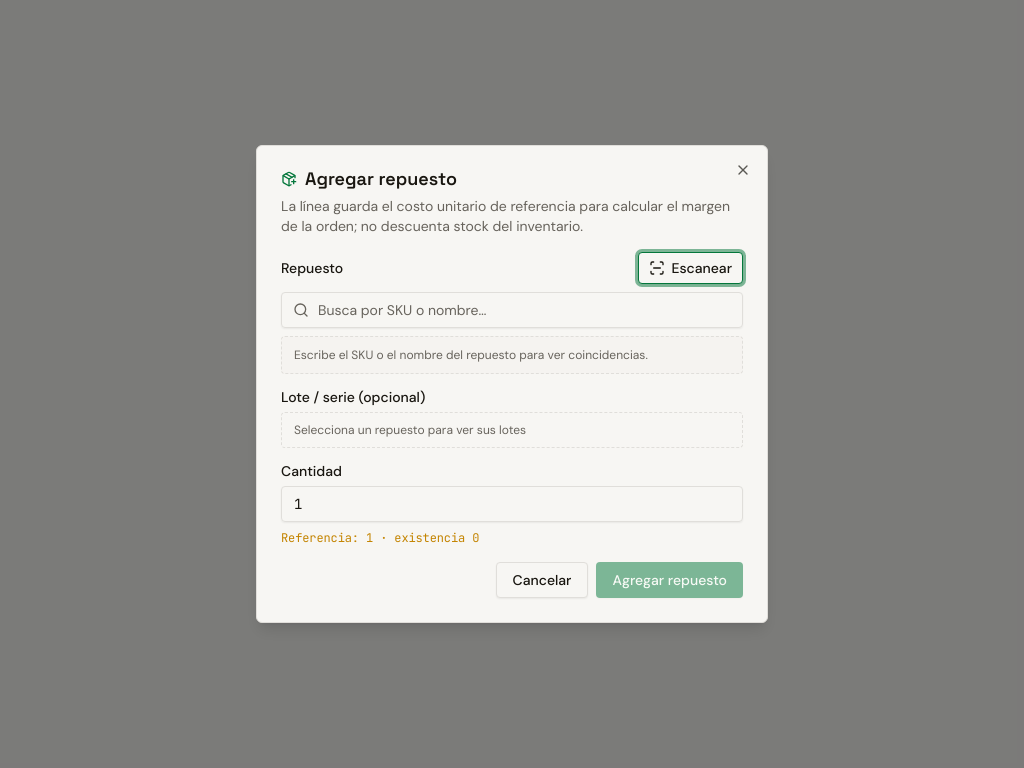
AddPartDialog › shows the selected part's price and stock reference
This screenshot has width=1024, height=768.
Type "Balata de freno" into the search field with test id "order_detail.add_part.search_input".
click(512, 310); type("Balata de freno")  # box [281, 292, 743, 328]
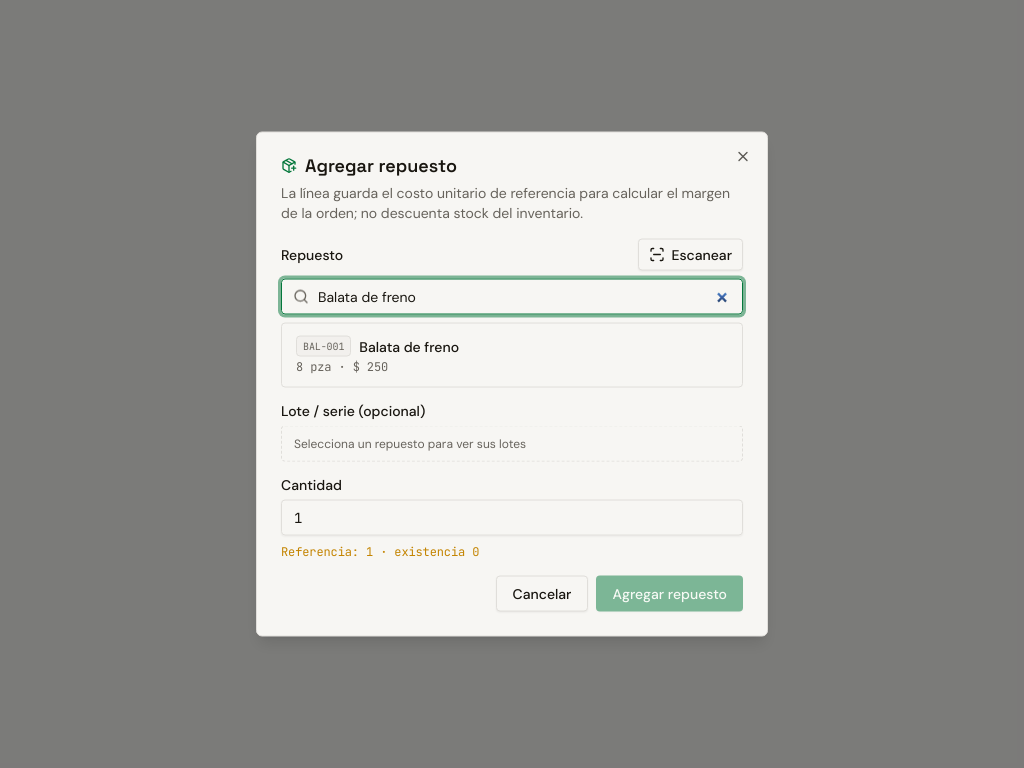
Click the text "Balata de freno".
click(409, 346)  # box [359, 336, 459, 356]
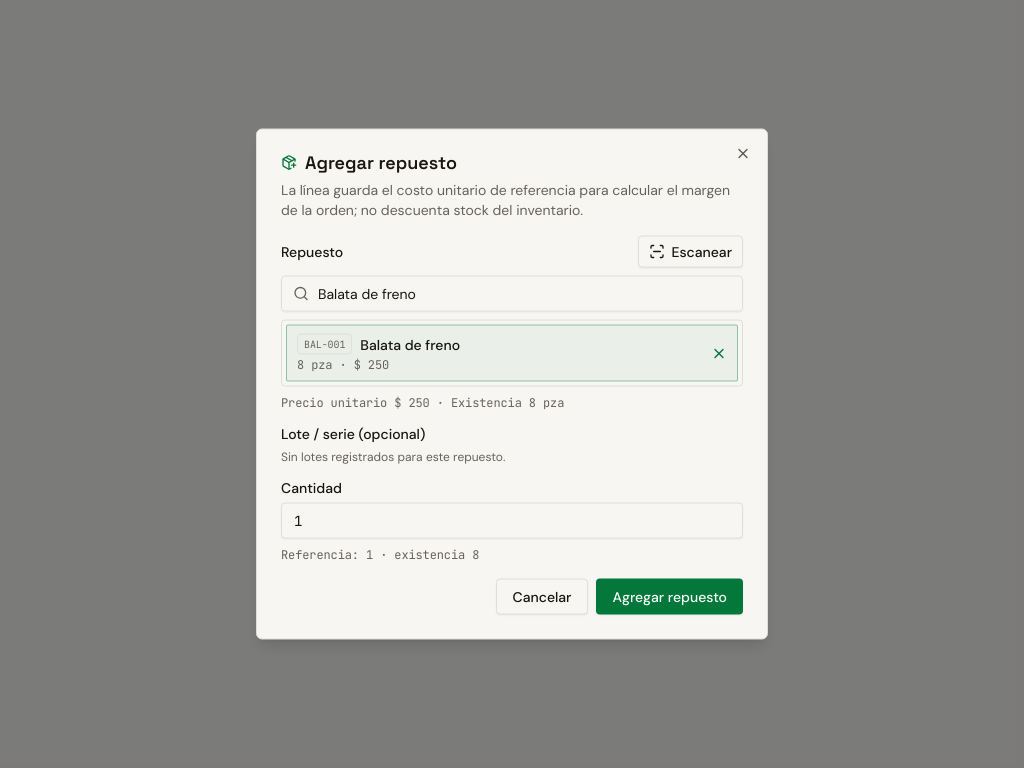
Result: the text "Precio unitario $ 250 · Existencia 8 pza" is shown at [281, 394, 564, 410]
